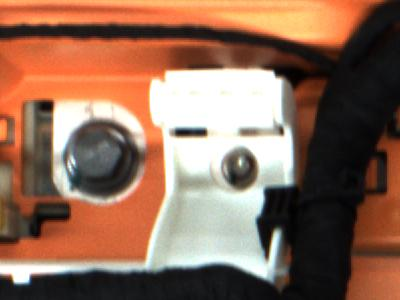nut_b: (59, 111, 148, 204)
